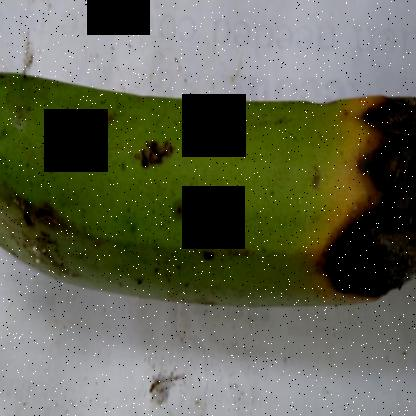rotten: (292, 78, 415, 344)
